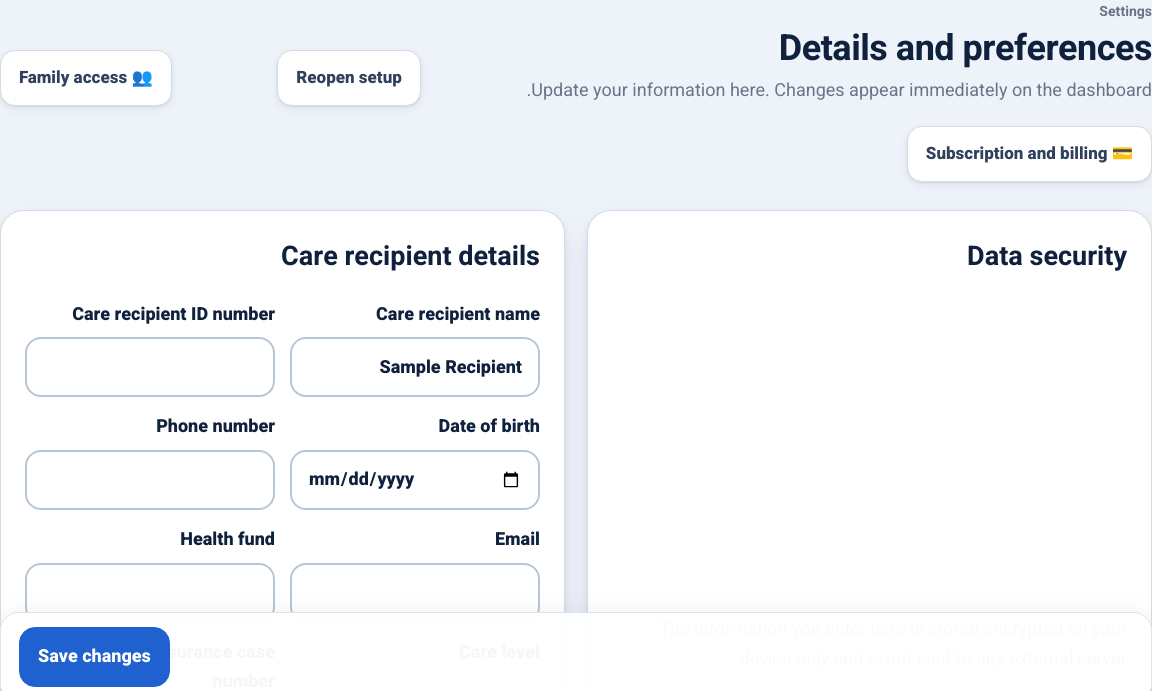
Scenario: SettingsPage complete client profile › keeps Israeli IDs numeric and caregiver passports alphanumeric
Type "AB-038 852 562" into the field labelled "Care recipient ID number" at x=150, y=367, box [25,337,275,397]
(page scrolled)
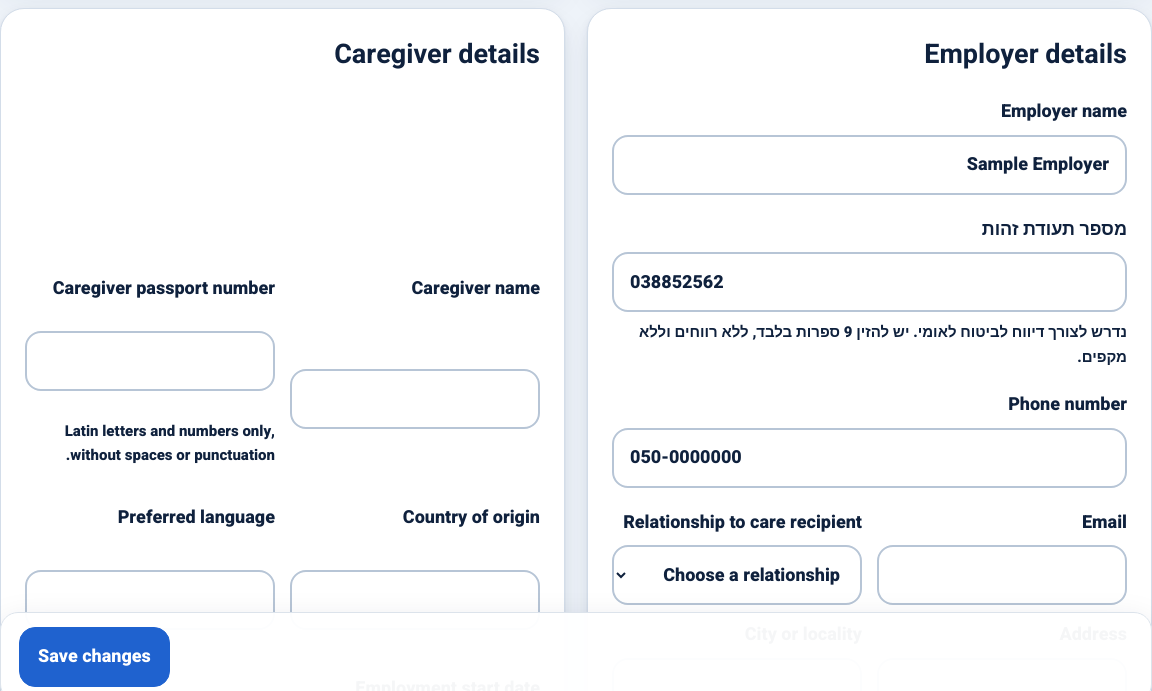
Type "ab-123 456!" into the field labelled "Caregiver passport number" at x=150, y=361, box [25,331,275,391]
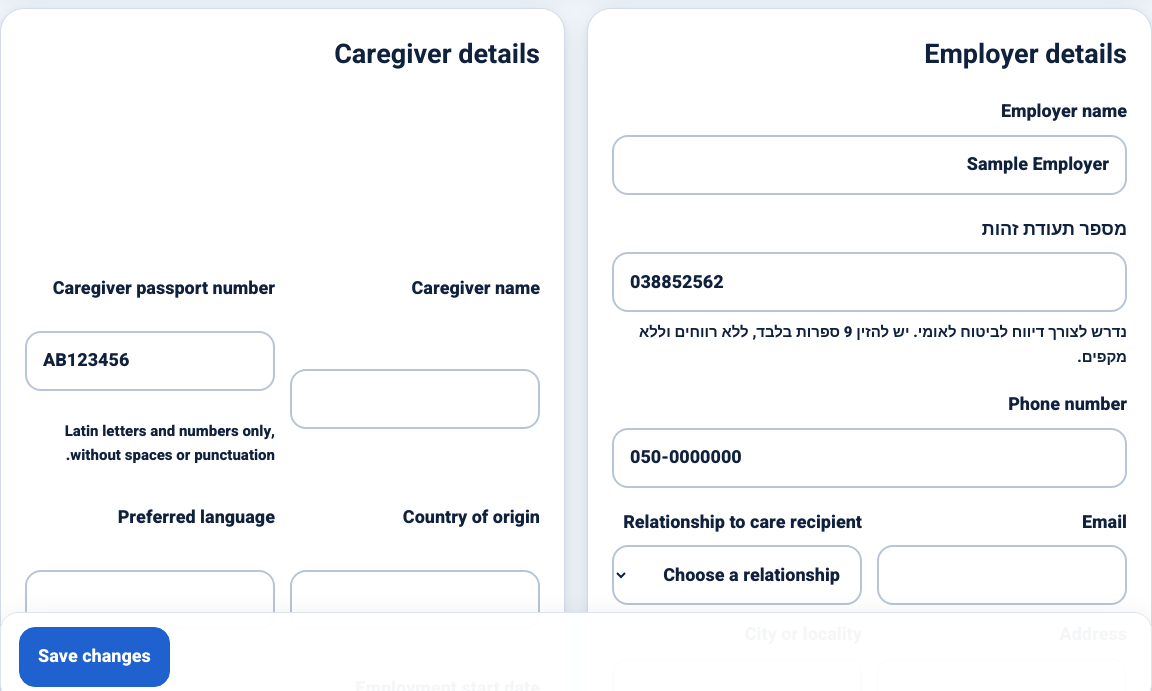
Now the field labelled "Caregiver passport number" holds "AB123456", box [25,331,275,391]
